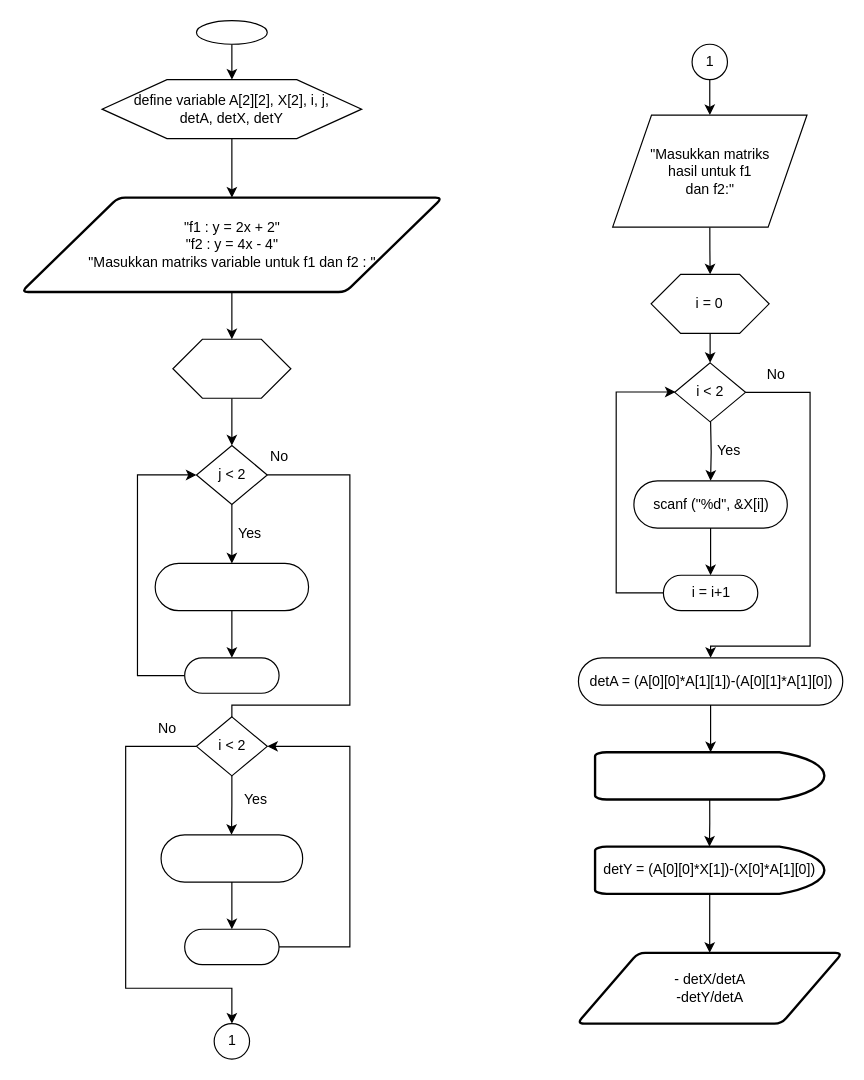
Image size: 864x1080. Some labels were removed from this diagram. The shapes that lost their labels are listed below. From the top down, each one's centre as x and y in pixels, then its label:
[231,31]: Start
[231,368]: i = 0, j = 0
[231,586]: scanf ("%d", &A[i][j])
[231,675]: j = j+1
[709,775]: detx = (X[0]*A[1][1])-(X[1]*A[1][0])
[231,858]: scanf("%d", &A[i][j]);
[231,946]: i = i + 1
